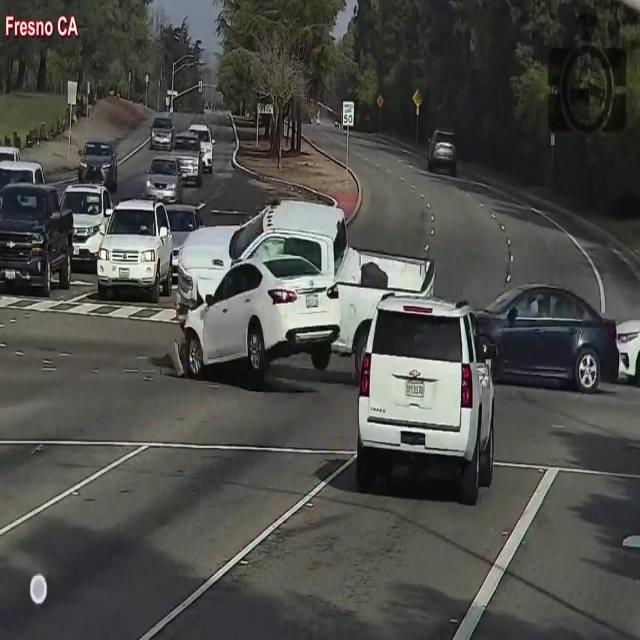accident: (165, 200, 441, 418)
non_accident: (0, 155, 174, 305), (125, 115, 223, 217)
